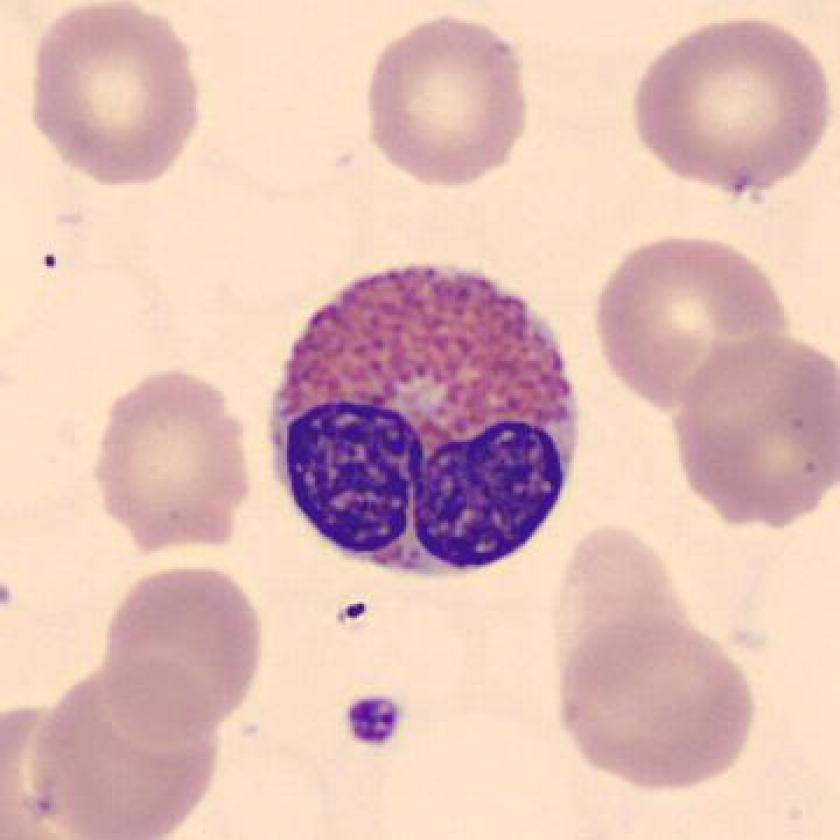eosinophil: (255, 251, 594, 593)
